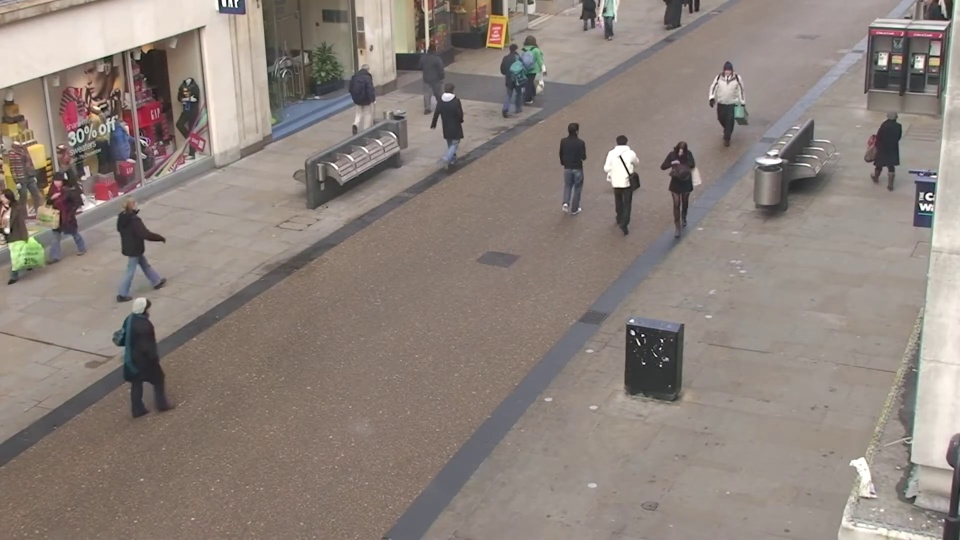pedestrian: (134, 288, 192, 426), (32, 170, 84, 278), (125, 185, 173, 297), (863, 104, 904, 199), (661, 140, 696, 243), (608, 124, 639, 223), (562, 115, 593, 212), (442, 75, 471, 159), (711, 62, 740, 143), (353, 57, 382, 135), (424, 39, 451, 113), (504, 38, 530, 112), (523, 32, 548, 105)
